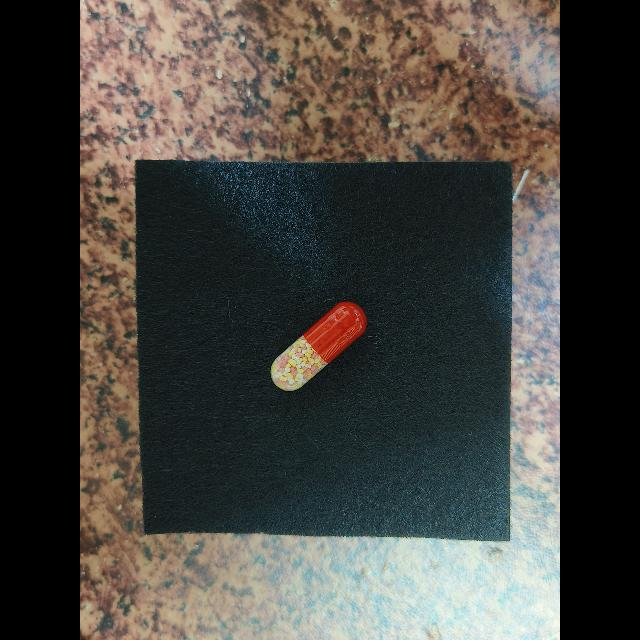Intact Capsule: (271, 301, 367, 391)
